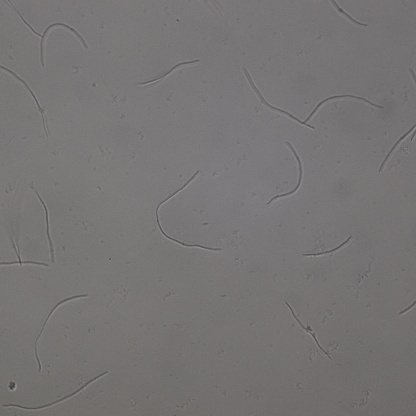Sensitive: (155, 169, 222, 250), (6, 1, 89, 66), (243, 68, 314, 130), (33, 293, 87, 374), (3, 371, 107, 409), (1, 65, 49, 138), (267, 141, 306, 208), (304, 92, 383, 124), (286, 302, 330, 358), (138, 57, 199, 88), (380, 120, 416, 172), (35, 186, 53, 261), (301, 234, 353, 259), (332, 1, 368, 27), (1, 258, 50, 272)
